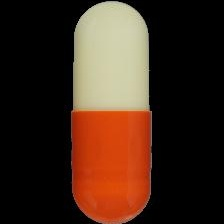42254-073: (0, 0, 224, 224)
